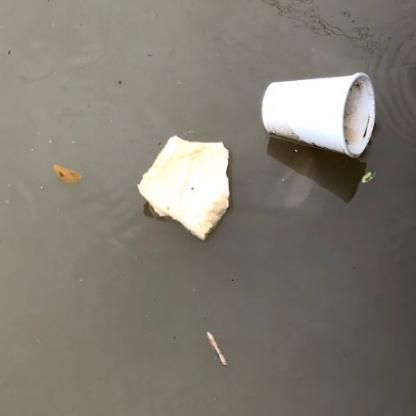foam: (137, 135, 231, 239)
plastic bottle: (260, 73, 375, 157)
